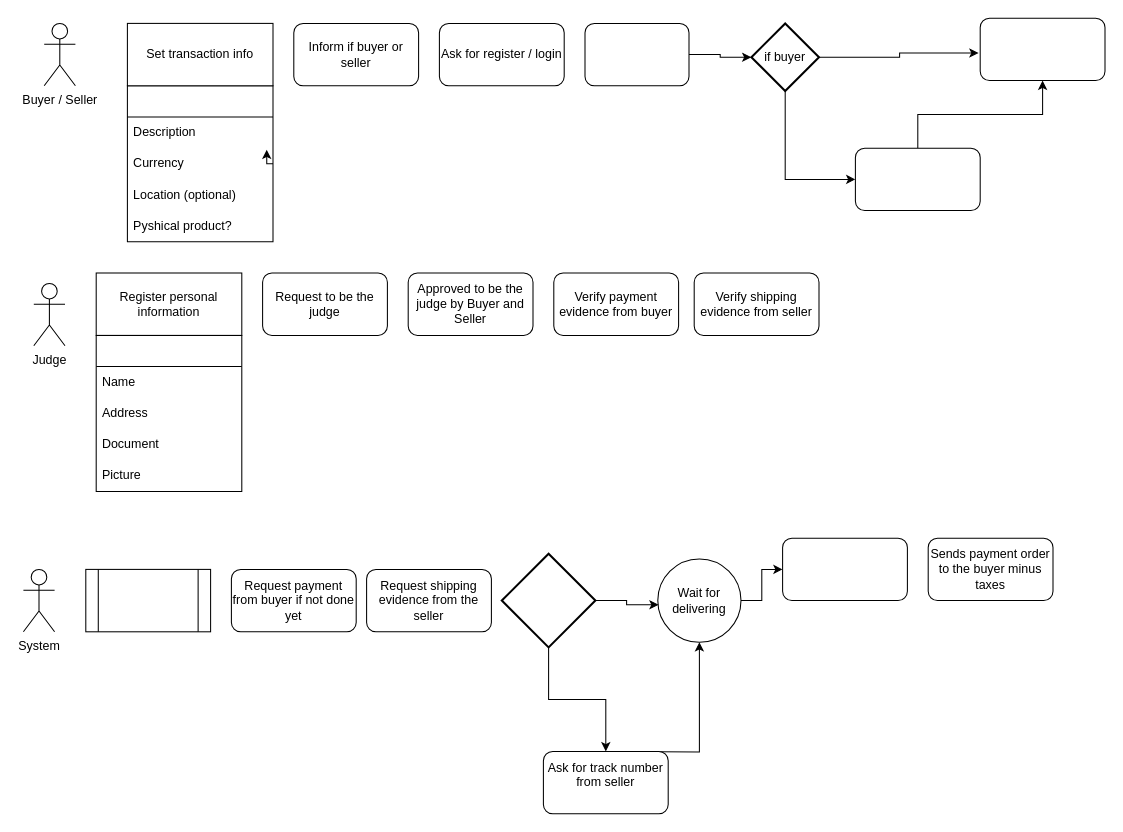
Image size: 1123x832. Some labels were removed from this diagram. Each missing label, with the box of its shape:
executed payment: (854, 147, 980, 211)
Generate link with missing information: (584, 22, 689, 86)
if Physical: (500, 552, 596, 648)
info: (95, 334, 242, 491)
Judge added to transaction: (85, 568, 211, 632)
List: (126, 85, 273, 242)
Request buyer confirmation of receiving product: (782, 537, 907, 601)
Wait for judge: (979, 17, 1105, 81)
